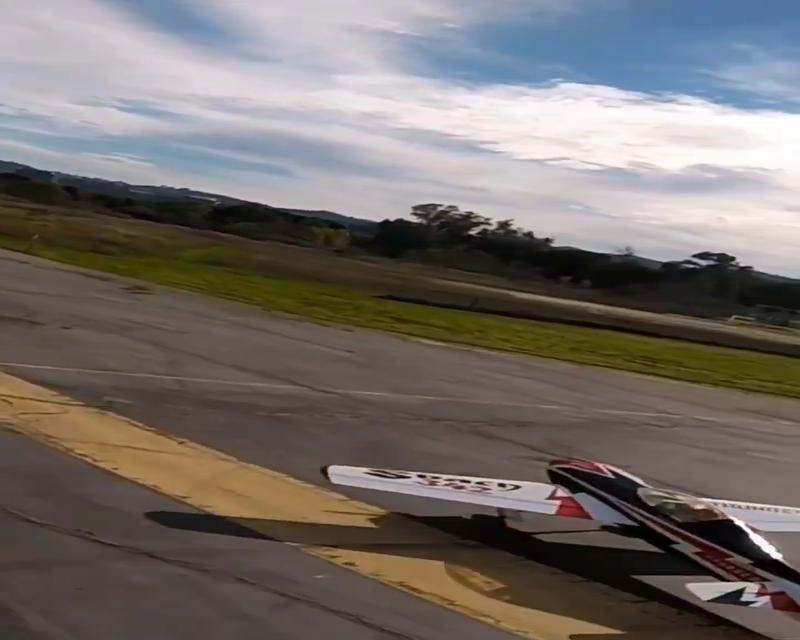UAV: (325, 461, 800, 640)
